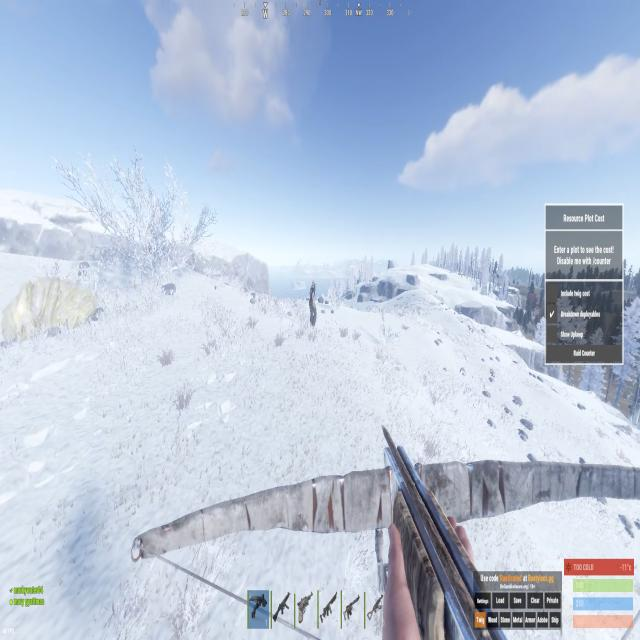Player: (309, 280, 317, 329)
